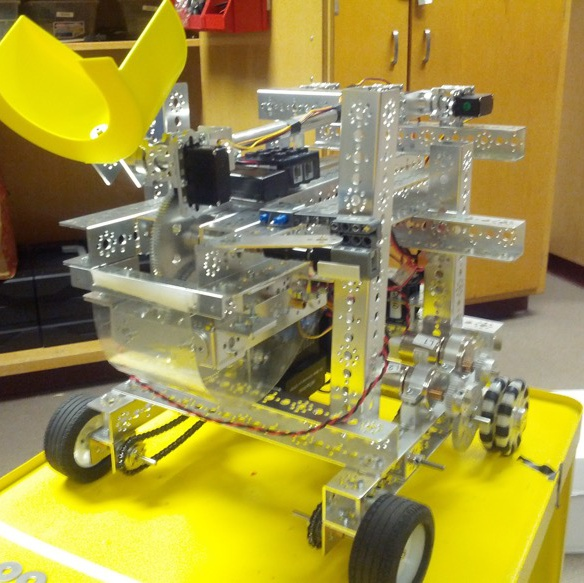robot: (0, 2, 529, 583)
